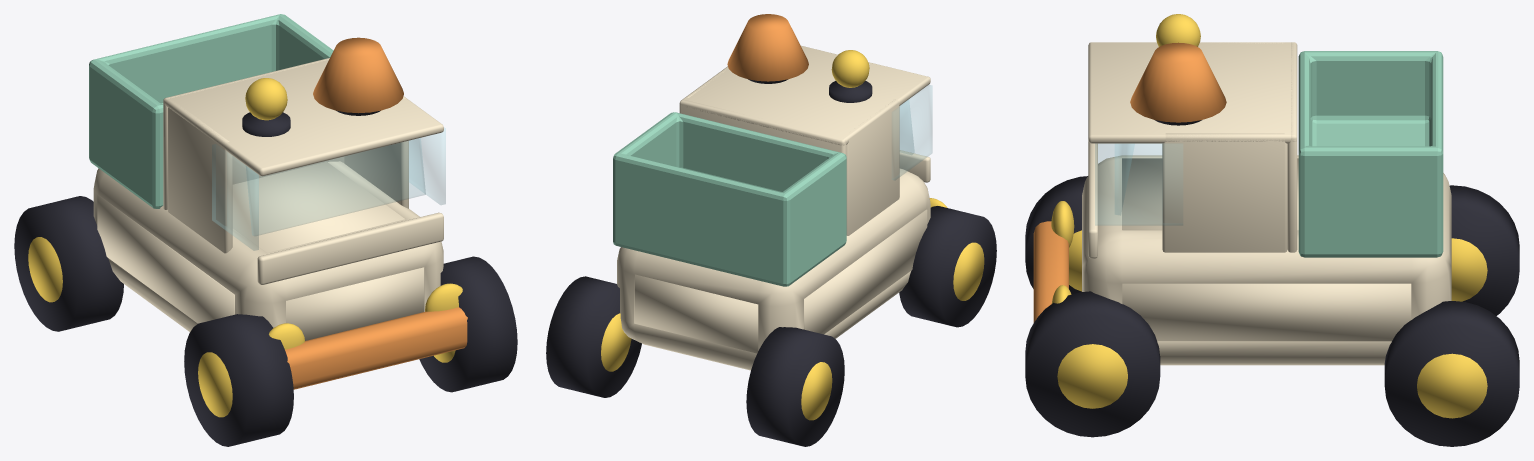
The model's file is 01_Truck_Body.obj.
3 renders of one model, left to right at view 1: azimuth 30°, elevation 25°; view 2: azimuth 150°, elevation 25°; view 3: azimuth 270°, elevation 25°, orthographic. The views are drawn at different scales.
Parts seen in each view (by area): view 1: Cabin, Wheel_FL_Hub, Body_Cover, OpenBin, Body_base, Wheel_RR_Hub, Speaker_Cone, SignalLED, SignalBase; view 2: OpenBin, Cabin, Wheel_RR_Hub, Body_base, Body_Cover, Wheel_FL_Hub, Speaker_Cone, SignalLED, SignalBase; view 3: Cabin, OpenBin, Wheel_RR_Hub, Body_base, Wheel_FL_Hub, Body_Cover, Speaker_Cone, SignalLED.
Part boxes in pixels (bbox=[...]): Cabin: bbox=[163, 58, 445, 284]; Wheel_FL_Hub: bbox=[184, 256, 517, 446]; Body_Cover: bbox=[97, 162, 424, 340]; OpenBin: bbox=[89, 14, 333, 208]; Body_base: bbox=[93, 161, 443, 331]; Wheel_RR_Hub: bbox=[14, 196, 123, 331]; Speaker_Cone: bbox=[313, 37, 403, 113]; SignalLED: bbox=[245, 78, 287, 120]; SignalBase: bbox=[242, 112, 290, 136]; OpenBin: bbox=[613, 112, 846, 286]; Cabin: bbox=[679, 45, 932, 235]; Wheel_RR_Hub: bbox=[546, 276, 844, 446]; Body_base: bbox=[617, 168, 930, 370]; Body_Cover: bbox=[634, 209, 927, 353]; Wheel_FL_Hub: bbox=[899, 198, 996, 327]; Speaker_Cone: bbox=[727, 14, 808, 81]; SignalLED: bbox=[831, 50, 869, 87]; SignalBase: bbox=[829, 81, 872, 102]; Cabin: bbox=[1088, 42, 1297, 258]; OpenBin: bbox=[1298, 51, 1443, 257]; Wheel_RR_Hub: bbox=[1384, 185, 1519, 446]; Body_base: bbox=[1082, 155, 1451, 365]; Wheel_FL_Hub: bbox=[1025, 176, 1160, 437]; Body_Cover: bbox=[1122, 158, 1411, 341]; Speaker_Cone: bbox=[1130, 42, 1226, 122]; SignalLED: bbox=[1156, 14, 1200, 46].
Size of the model in its own units: 2.07 by 2.4 by 3.08.
